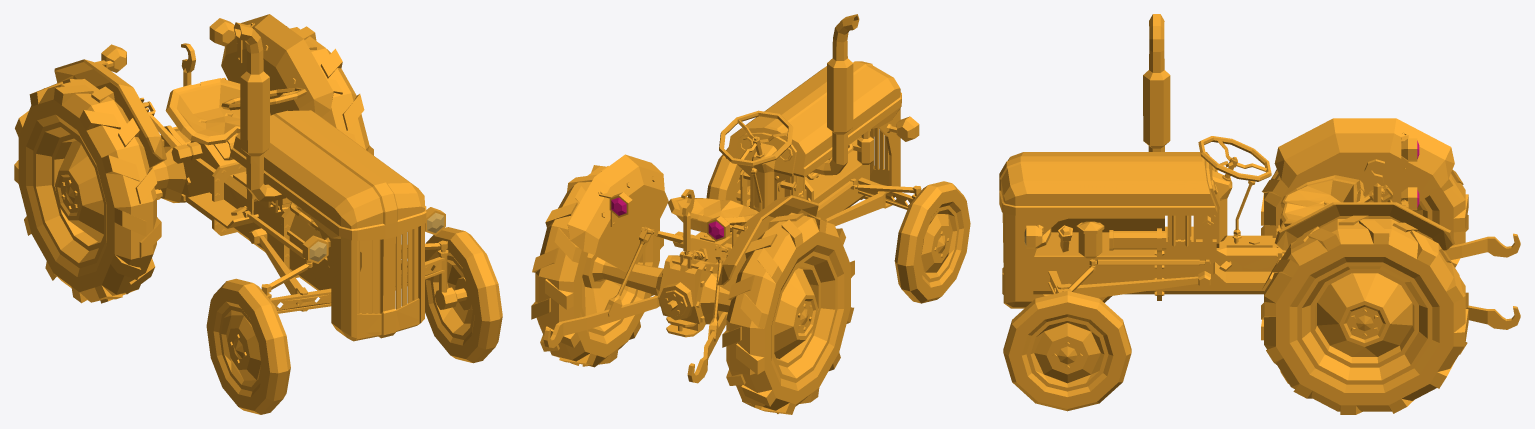
The model's file is SM_Tractor_Old.fbx.
The picture shows the model from 3 angles, left to right: view 1: azimuth 30°, elevation 25°; view 2: azimuth 150°, elevation 25°; view 3: azimuth 270°, elevation 25°; orthographic projection. The views are drawn at different scales.
Visible parts, largest first — view 1: tractor-old-base, tactor-old-wheel-rba, tactor-old-wheel-rfr, tactor-old-wheel-lfr, tactor-old-wheel-lba, tractor-old-steering-wheel; view 2: tractor-old-base, tactor-old-wheel-rba, tactor-old-wheel-lba, tactor-old-wheel-rfr, tractor-old-steering-wheel, tactor-old-wheel-lfr, tractor-old-tph-b; view 3: tractor-old-base, tactor-old-wheel-lba, tactor-old-wheel-lfr, tactor-old-wheel-rba, tractor-old-steering-wheel, tractor-old-tph-b.
Part boxes in pixels (box(x1,y1,x2,y2)): tractor-old-base: box(54, 14, 467, 341); tactor-old-wheel-rba: box(14, 79, 161, 303); tactor-old-wheel-rfr: box(206, 278, 290, 414); tactor-old-wheel-lfr: box(425, 227, 502, 363); tactor-old-wheel-lba: box(286, 26, 373, 155); tractor-old-steering-wheel: box(221, 87, 306, 110); tractor-old-base: box(543, 14, 921, 383); tactor-old-wheel-rba: box(722, 212, 854, 414); tactor-old-wheel-lba: box(531, 165, 663, 367); tactor-old-wheel-rfr: box(894, 181, 970, 303); tractor-old-steering-wheel: box(719, 110, 793, 166); tactor-old-wheel-lfr: box(706, 147, 750, 207); tractor-old-tph-b: box(681, 189, 694, 252); tractor-old-base: box(999, 14, 1520, 329); tactor-old-wheel-lba: box(1261, 215, 1468, 414); tactor-old-wheel-lfr: box(1003, 291, 1131, 411); tactor-old-wheel-rba: box(1261, 169, 1468, 267); tractor-old-steering-wheel: box(1198, 136, 1271, 181); tractor-old-tph-b: box(1364, 159, 1384, 202).
Bounding box in the file's own units: 1.69 × 2.16 × 3.23.
